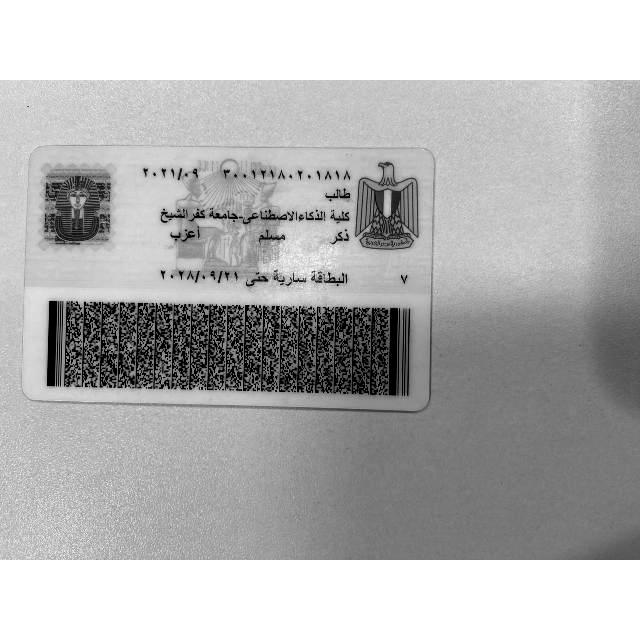id_card: (23, 147, 434, 410)
